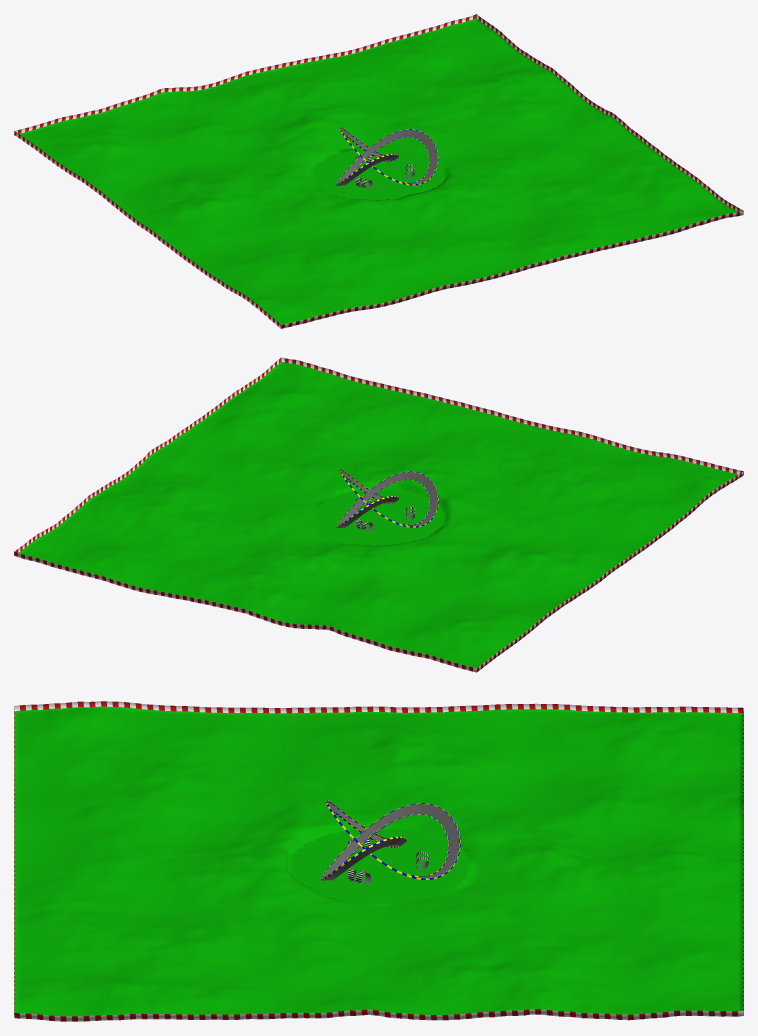
Rendered from Cenario Espesso Debug Smooth.glb.
3 renders of one model, top to bottom at view 1: azimuth 30°, elevation 25°; view 2: azimuth 150°, elevation 25°; view 3: azimuth 270°, elevation 25°, orthographic. The views are drawn at different scales.
Visible parts, largest first — view 1: Landscape.001, Pista; view 2: Landscape.001, Pista; view 3: Landscape.001, Pista.
Boxes of the visible parts, x1,y1,x2,y2 form: Landscape.001: [14, 14, 743, 328]; Pista: [336, 127, 438, 185]; Landscape.001: [14, 357, 743, 672]; Pista: [336, 469, 438, 528]; Landscape.001: [14, 701, 743, 1021]; Pista: [321, 800, 460, 880].
Size of the model in its own units: 5933 by 490 by 5934.
